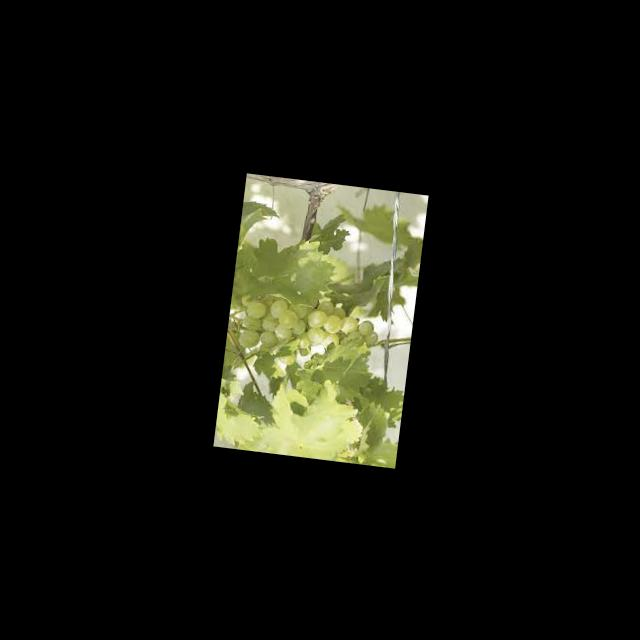grape: (233, 288, 380, 368)
